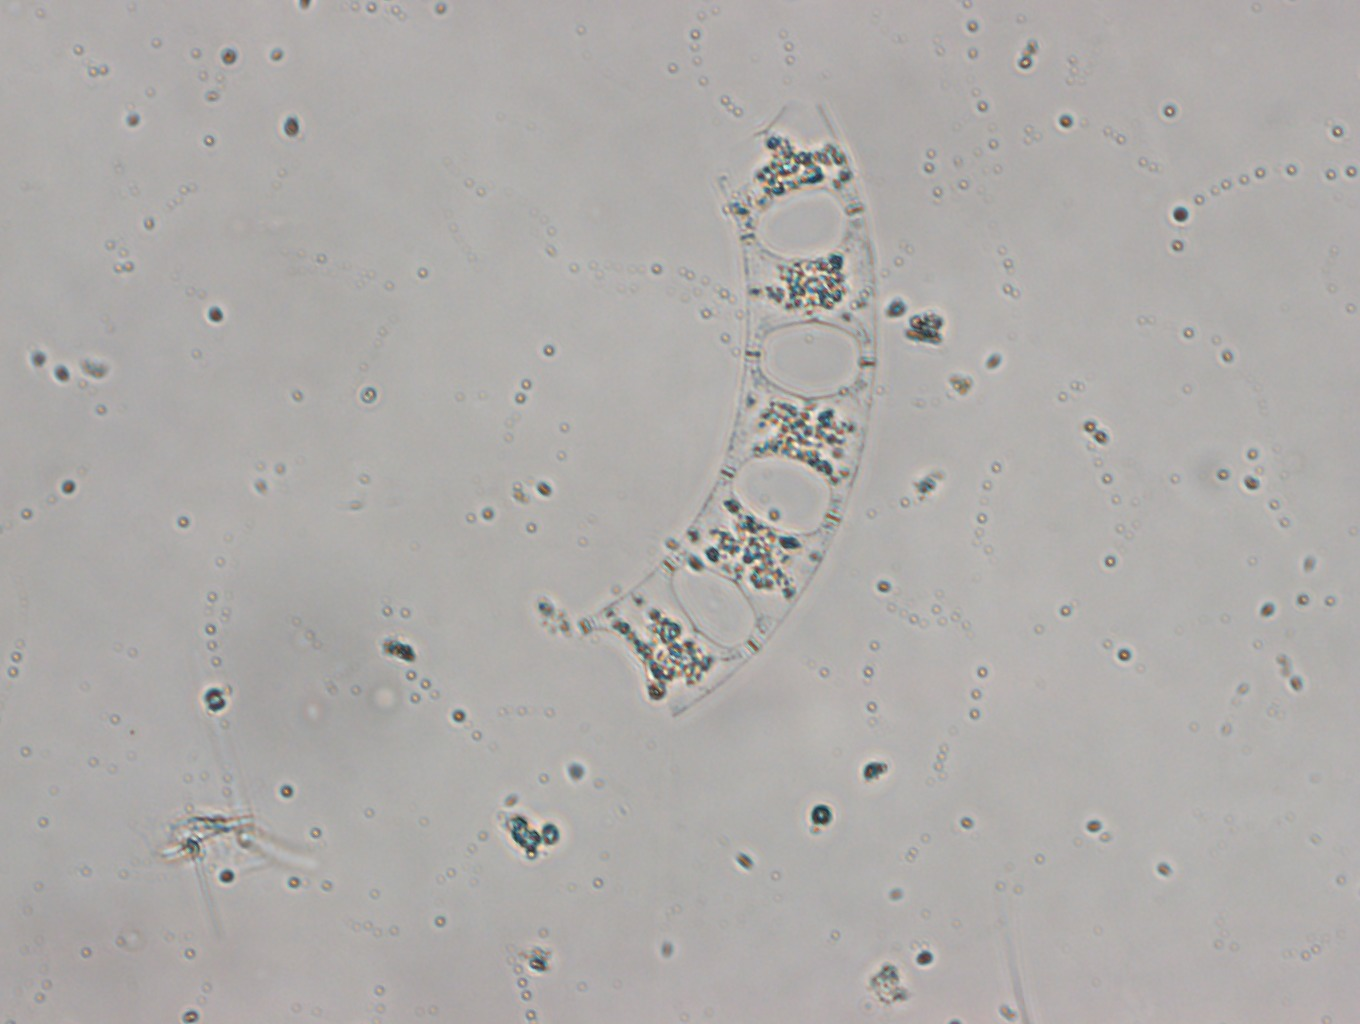eucampia: (579, 102, 877, 719)
